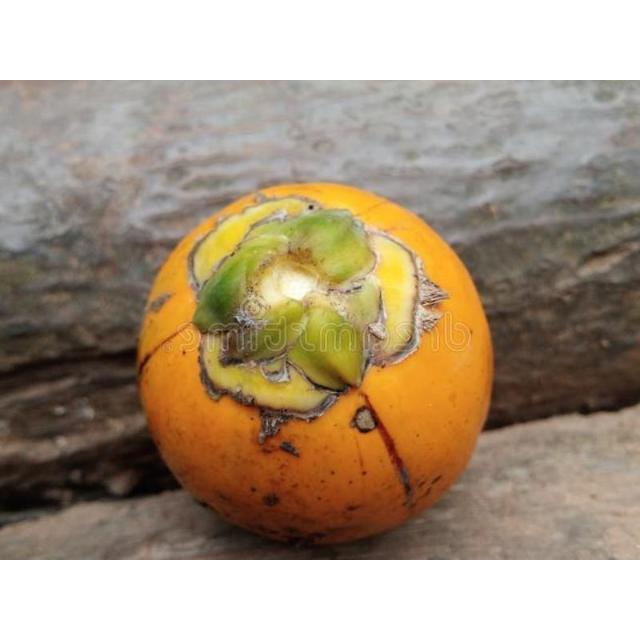good: (136, 182, 495, 549)
